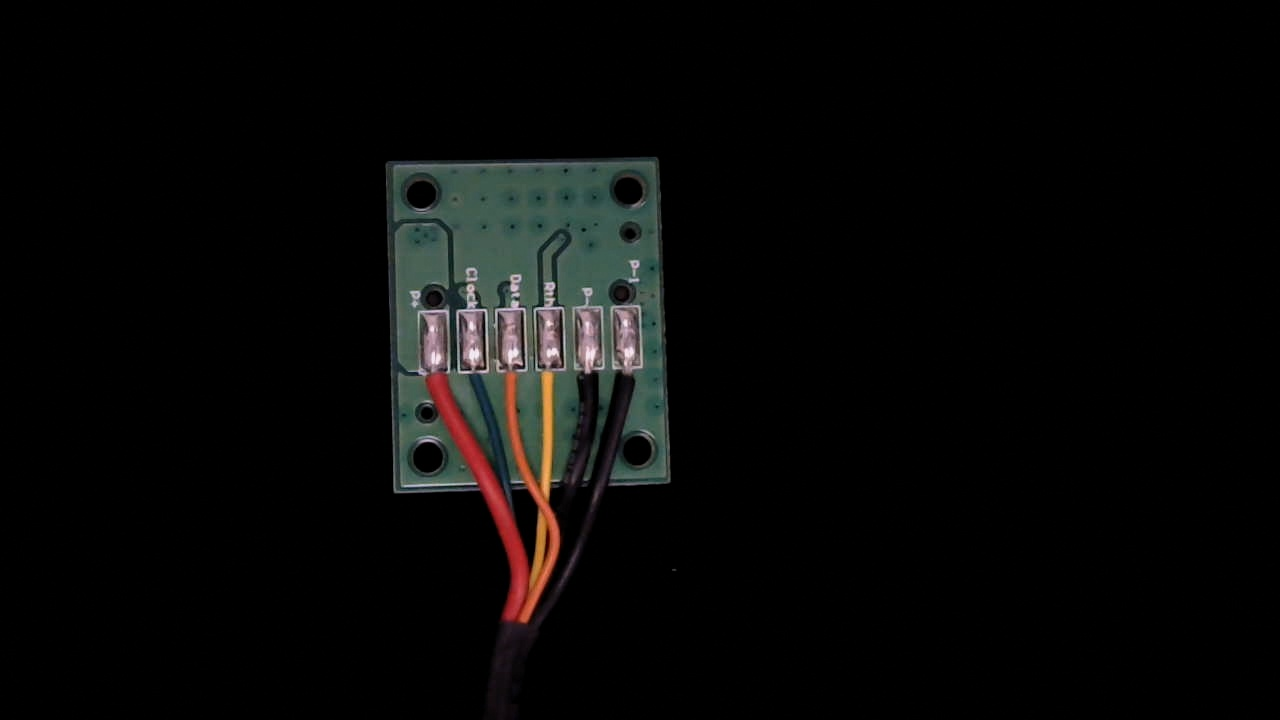Black: (574, 356, 609, 430)
Black1: (617, 350, 650, 417)
Green: (457, 355, 493, 422)
Orange: (497, 357, 530, 430)
Red: (419, 358, 453, 429)
Yellow: (537, 353, 571, 428)
